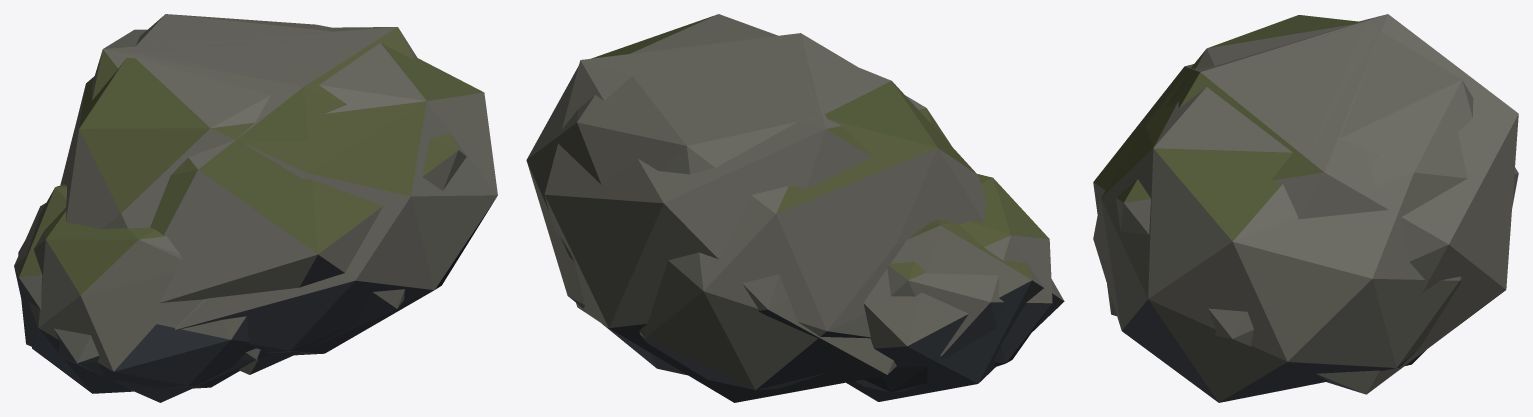
File: rock_river_boulder_b.glb
The picture shows the model from 3 angles, left to right: view 1: azimuth 30°, elevation 25°; view 2: azimuth 150°, elevation 25°; view 3: azimuth 270°, elevation 25°; orthographic projection. The views are drawn at different scales.
Parts seen in each view (by area): view 1: rock_river_boulder_b_LOD0_stone, rock_river_boulder_b_LOD1_stone; view 2: rock_river_boulder_b_LOD0_stone, rock_river_boulder_b_LOD1_stone; view 3: rock_river_boulder_b_LOD0_stone, rock_river_boulder_b_LOD1_stone.
Part boxes in pixels (x1,y1,x2,y2): rock_river_boulder_b_LOD0_stone: (14,14,497,393); rock_river_boulder_b_LOD1_stone: (18,27,466,402); rock_river_boulder_b_LOD0_stone: (526,14,1052,392); rock_river_boulder_b_LOD1_stone: (544,33,1064,402); rock_river_boulder_b_LOD0_stone: (1093,15,1518,402); rock_river_boulder_b_LOD1_stone: (1093,14,1518,394).
Size of the model in its own units: 1.2 by 0.6912 by 0.912.
